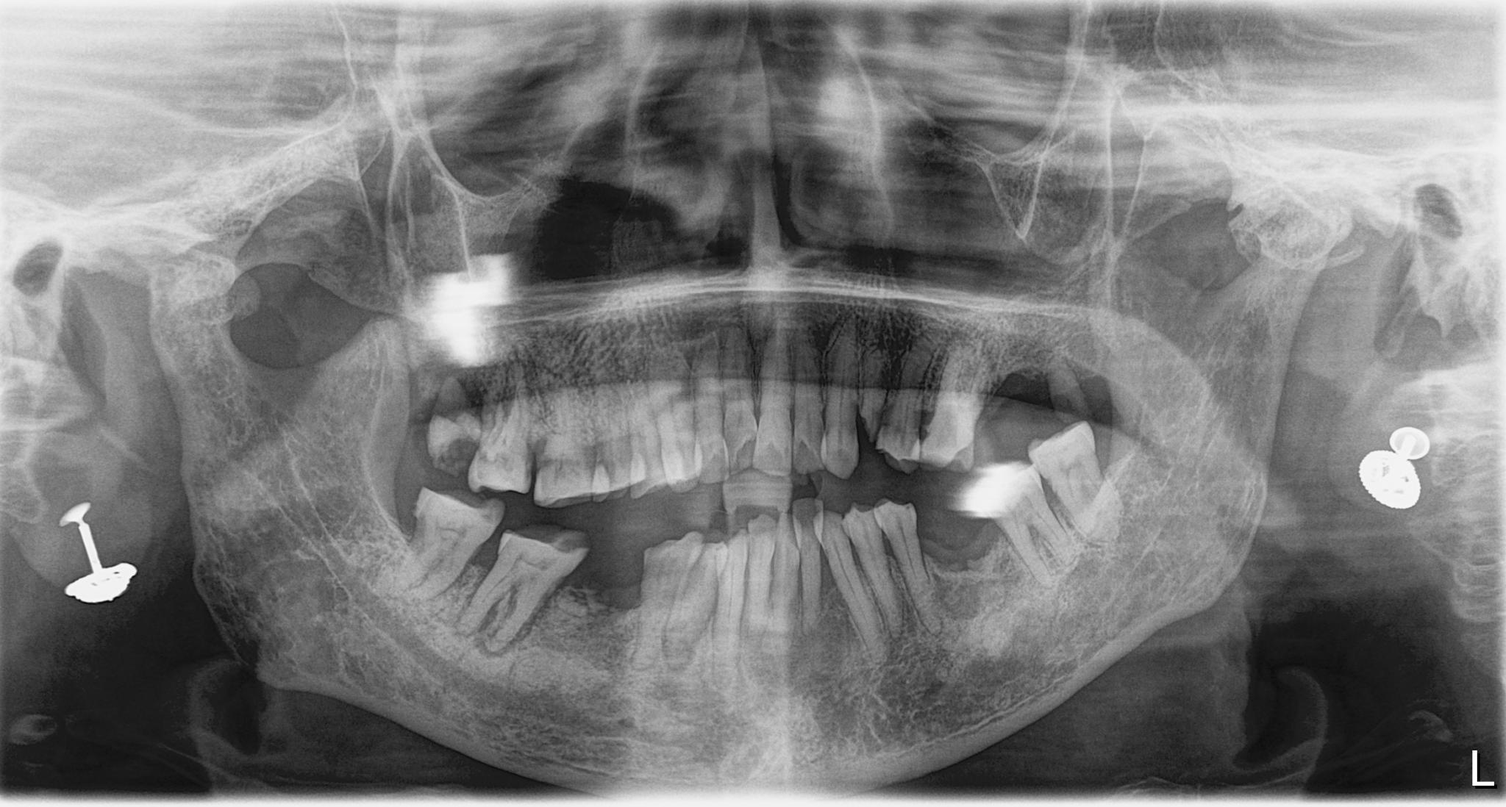Dental Caries: (430, 395, 473, 473)
Missing Tooth: (916, 505, 983, 617), (586, 540, 643, 648), (386, 380, 440, 493), (371, 476, 413, 581), (995, 358, 1043, 433)
Retained Root: (1041, 334, 1093, 418)
